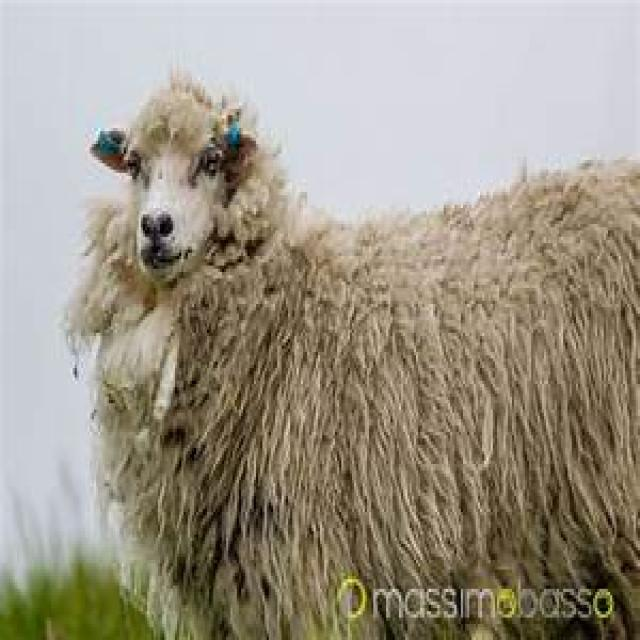animal: (47, 35, 626, 640)
